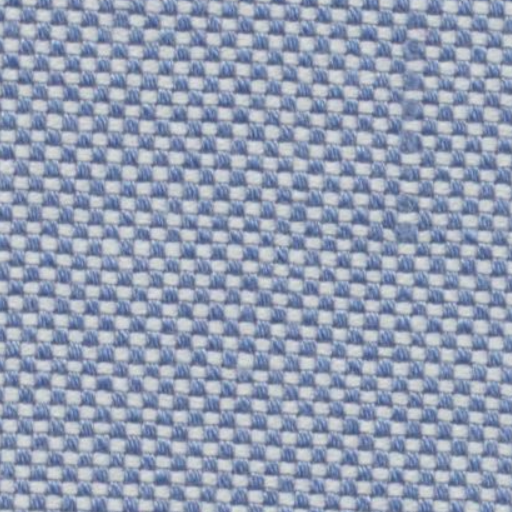TuoSha: (384, 15, 456, 288)
